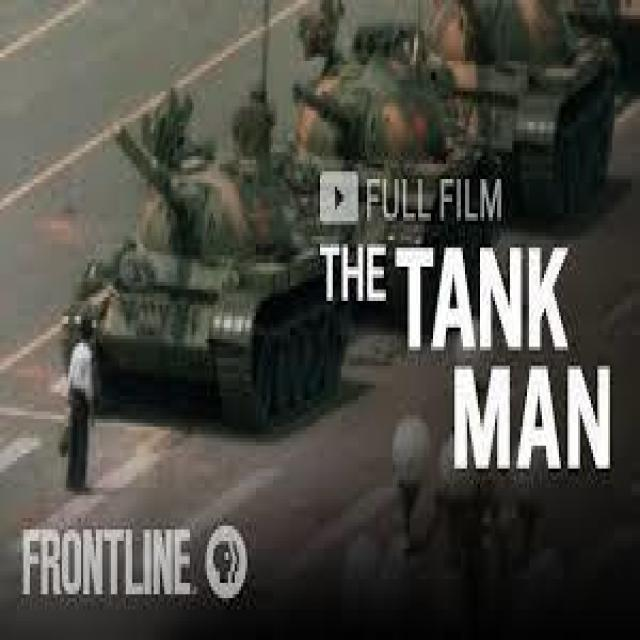Tanks: (61, 99, 347, 427), (351, 50, 494, 297), (501, 19, 619, 194)
